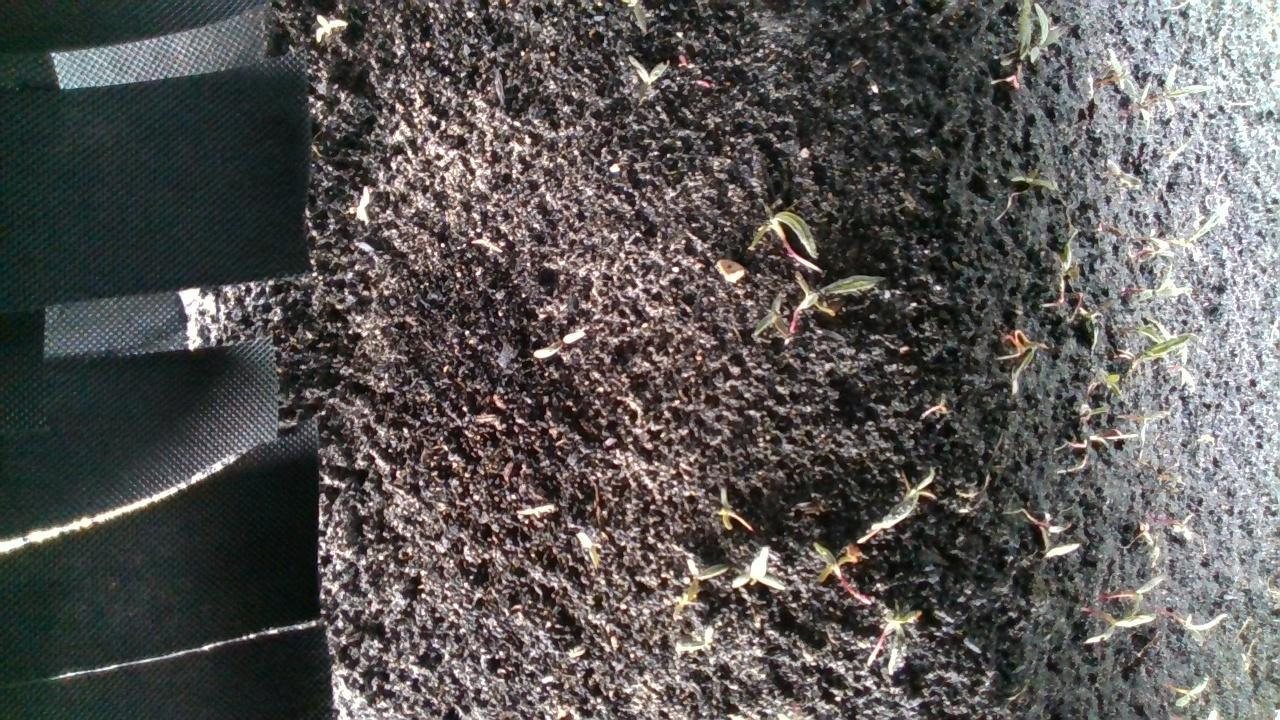weed: (1075, 579, 1154, 647), (537, 321, 590, 374), (706, 487, 760, 534)
